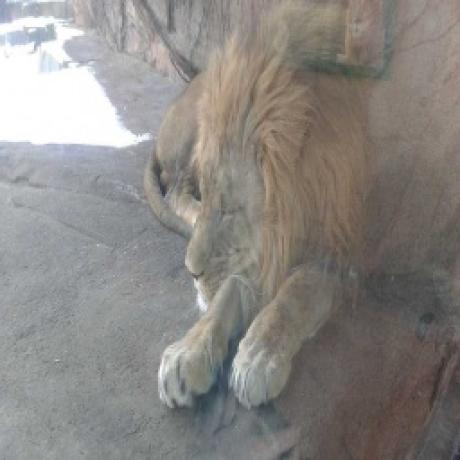Lion: (120, 0, 406, 409)
